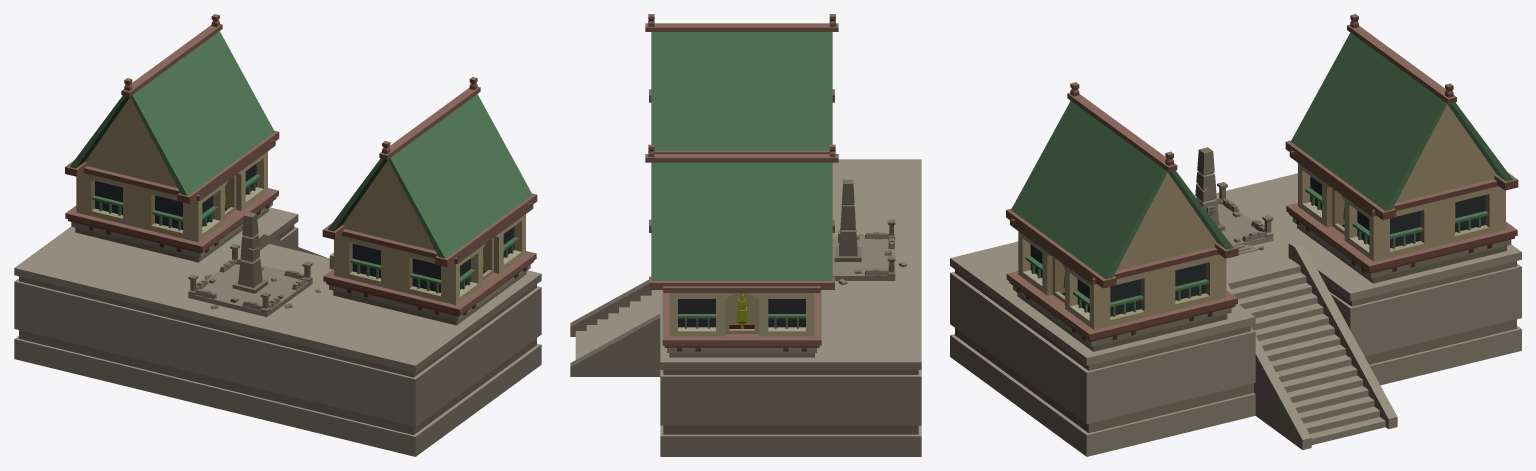
Rendered from ProjectsHouse.gltf.
3 renders of one model, left to right at view 1: azimuth 30°, elevation 25°; view 2: azimuth 150°, elevation 25°; view 3: azimuth 270°, elevation 25°, orthographic. The views are drawn at different scales.
Visible parts, largest first — view 1: HouseProjects; view 2: HouseProjects; view 3: HouseProjects.
Boxes of the visible parts, <box> form: HouseProjects: <box>14,14,541,456</box>; HouseProjects: <box>570,14,921,456</box>; HouseProjects: <box>950,14,1521,456</box>.
Bounding box in the file's own units: 22.06 × 14.24 × 25.64.
1 material, 1 textured.
